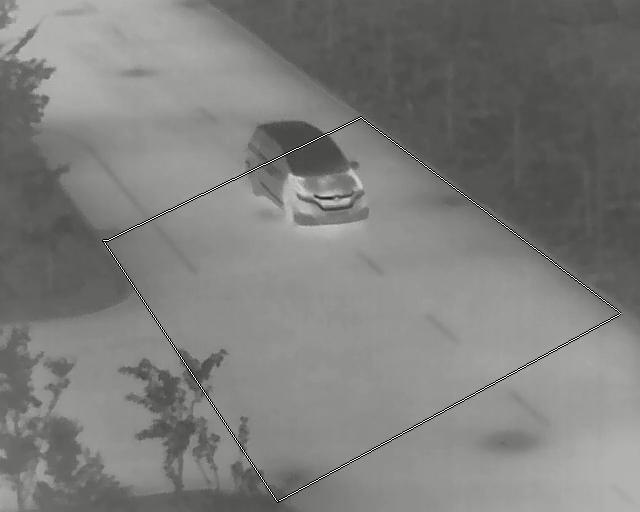vehicle: (243, 119, 370, 225)
